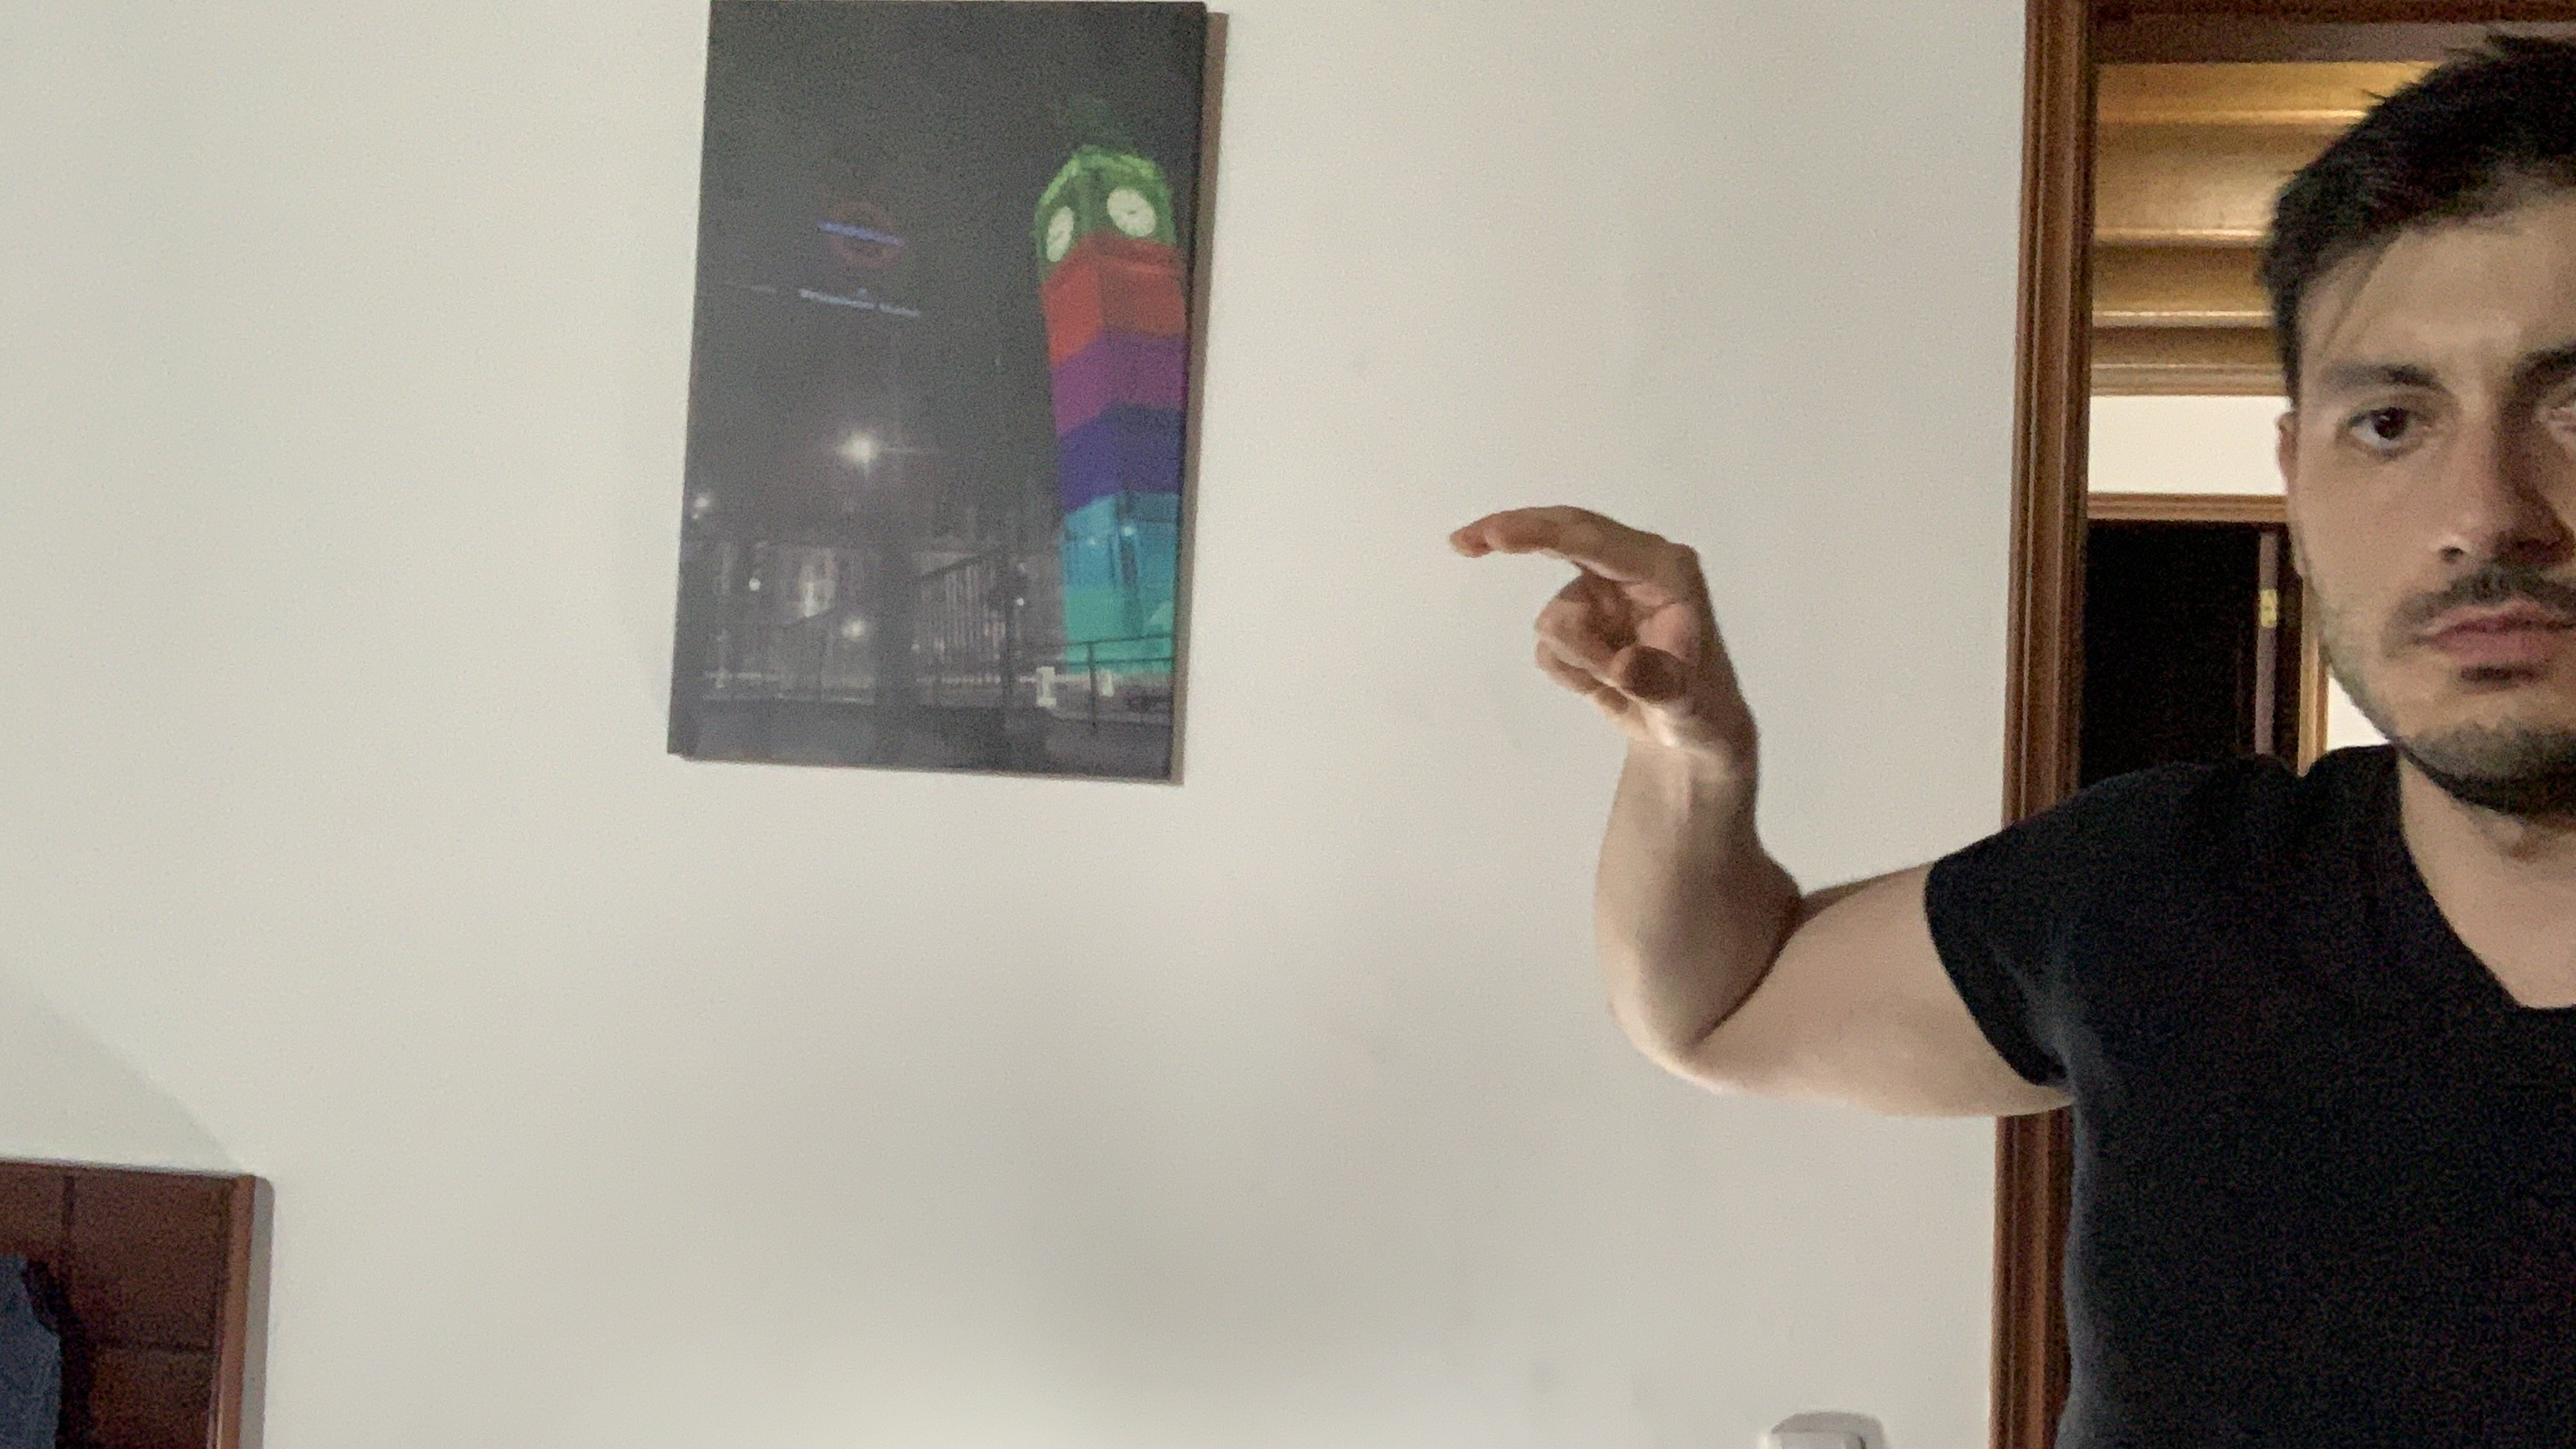No: (1442, 492, 1824, 793)
